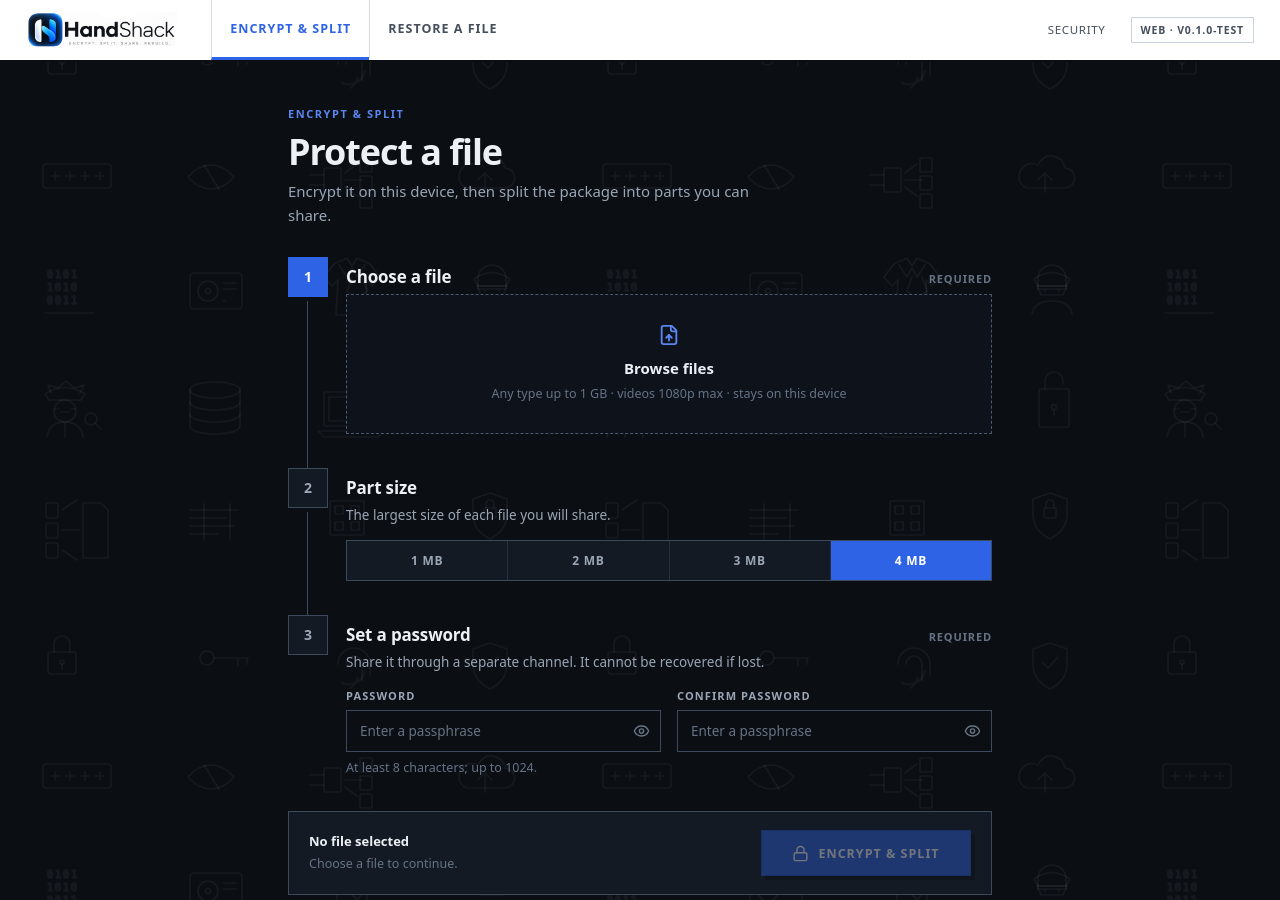
Test: Encrypt & Split page › runs the job and shows the completion summary
This screenshot has width=1280, height=900.
Click the button "Browse files": (669, 364) [346,294,992,434]
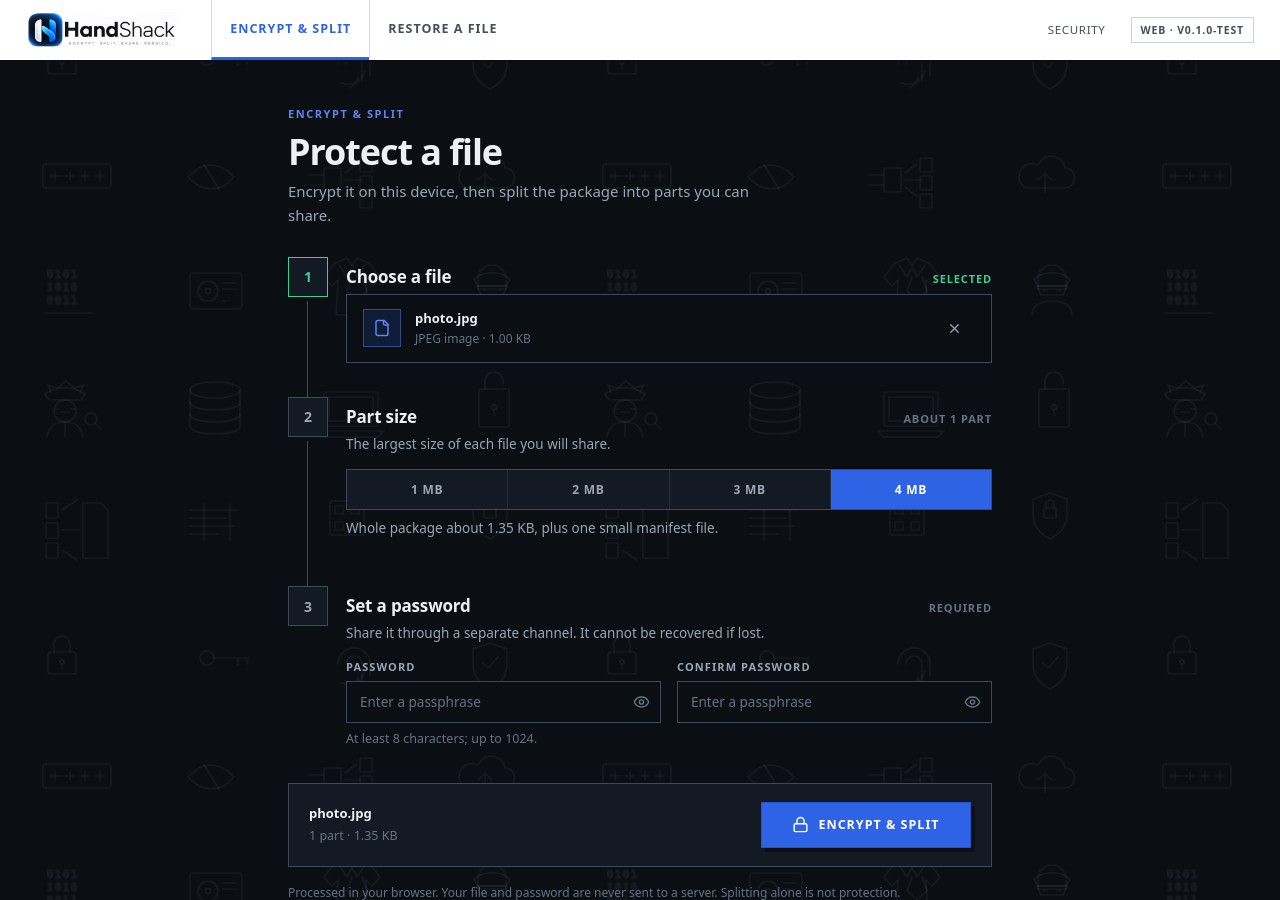
In the password field labelled "Password": (504, 702) [346,681,661,723], type "a-long-passphrase-1"
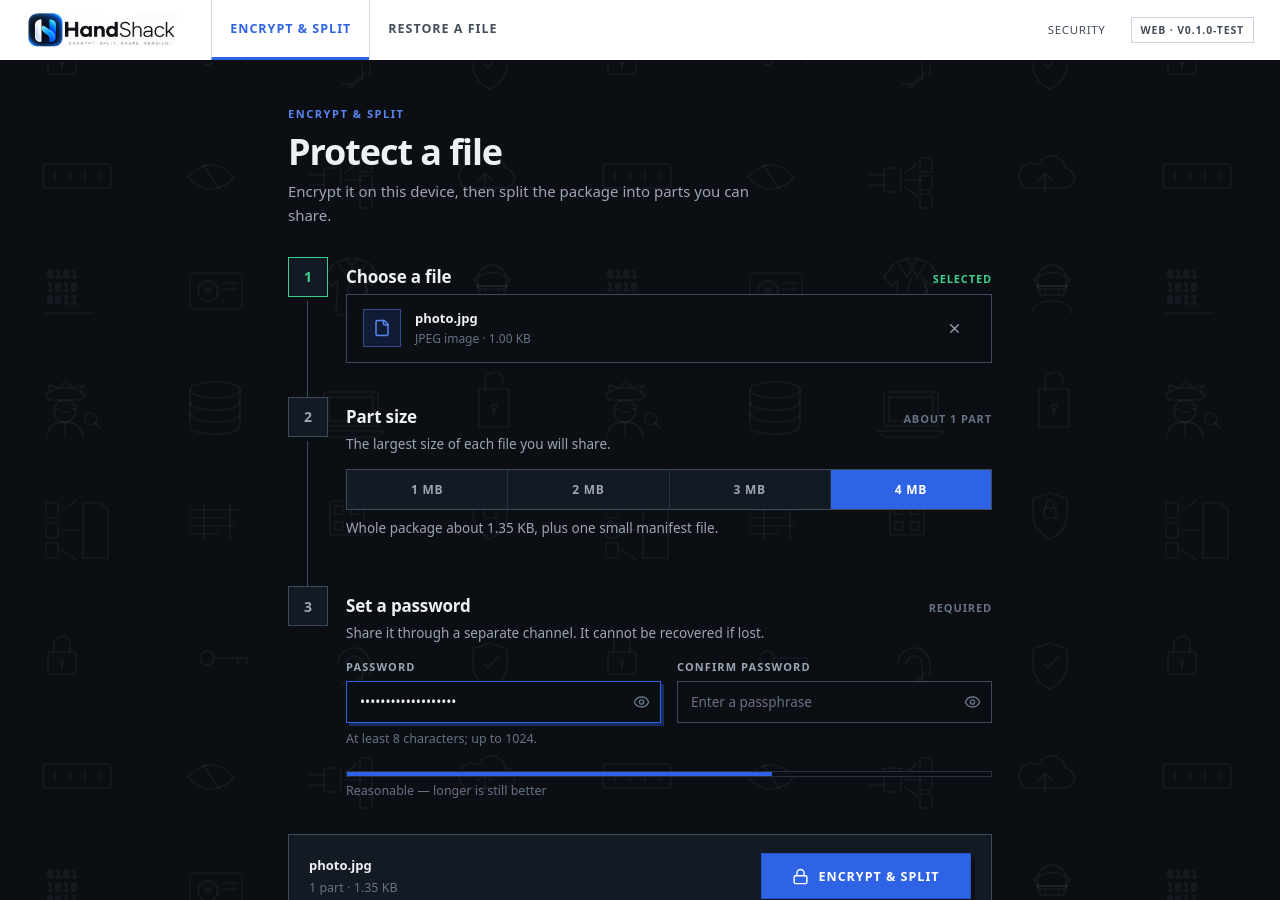
In the password field labelled "Confirm password": (834, 702) [677,681,992,723], type "a-long-passphrase-1"
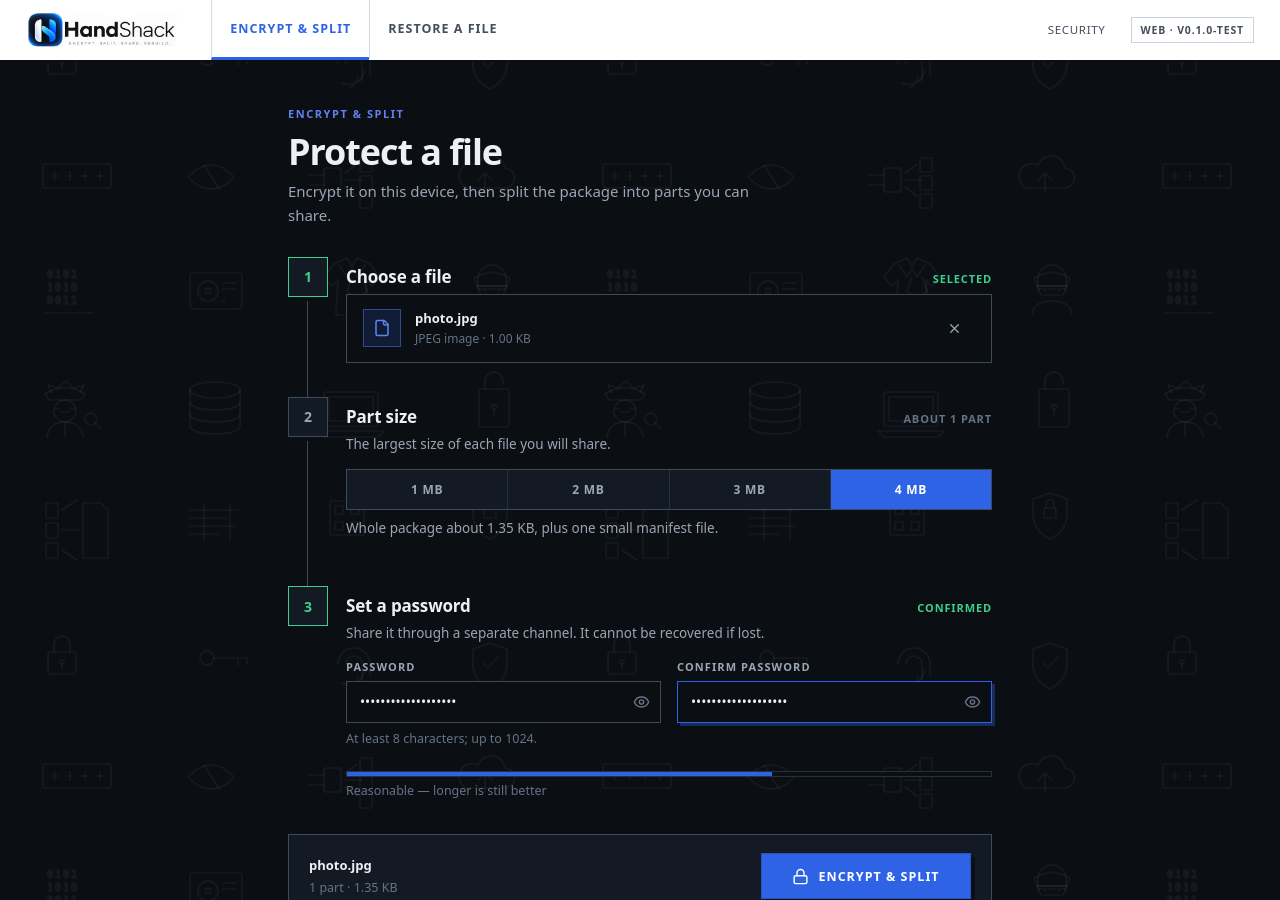
Click the button "Encrypt & split": (866, 876) [761,853,971,899]
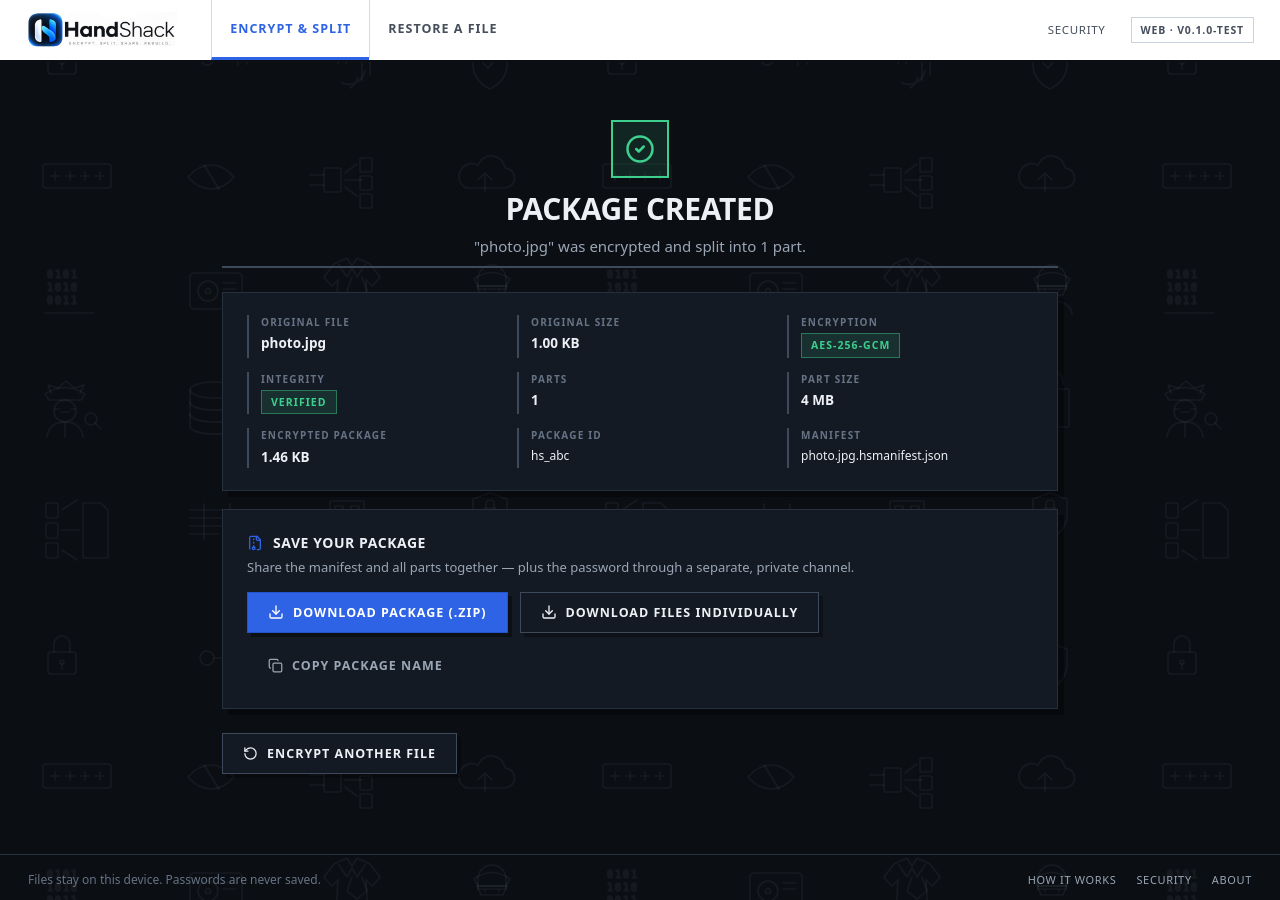
Check: the heading "Package created" is shown, box [506,188,775,229]
Check: the text "photo.jpg.hsmanifest.json" is shown, box [801,447,948,464]
